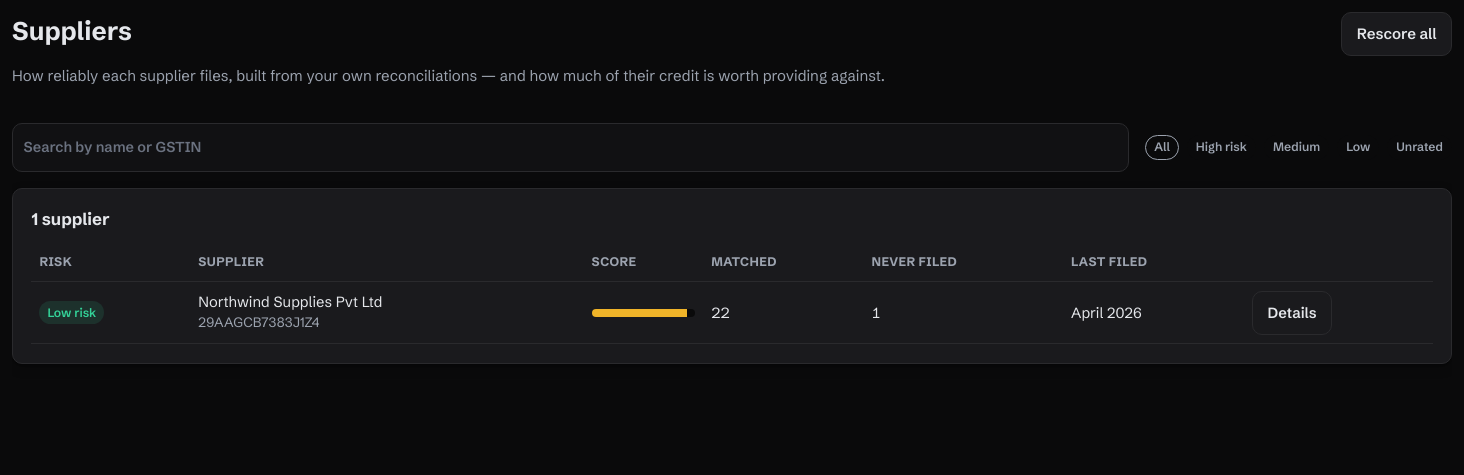
Test case: SuppliersPage › when a filter matches nothing › does not tell a populated register that it is empty
Click the button "High risk".
click(1221, 147)  # box [1187,135,1256,160]
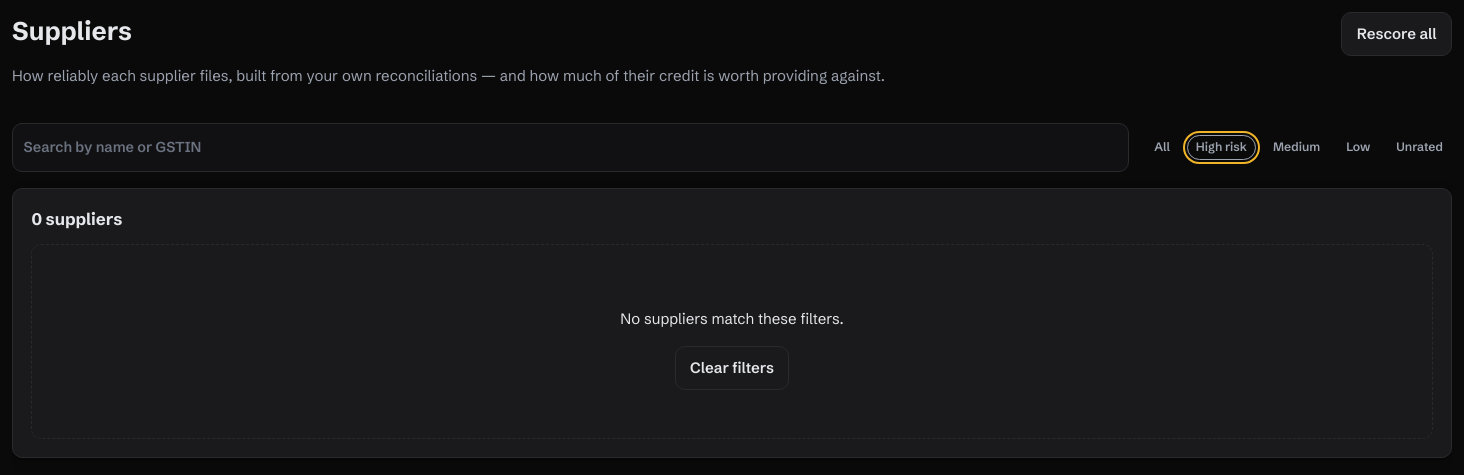
Result: the text "No suppliers match these filters." is shown at [620,310,844,328]
